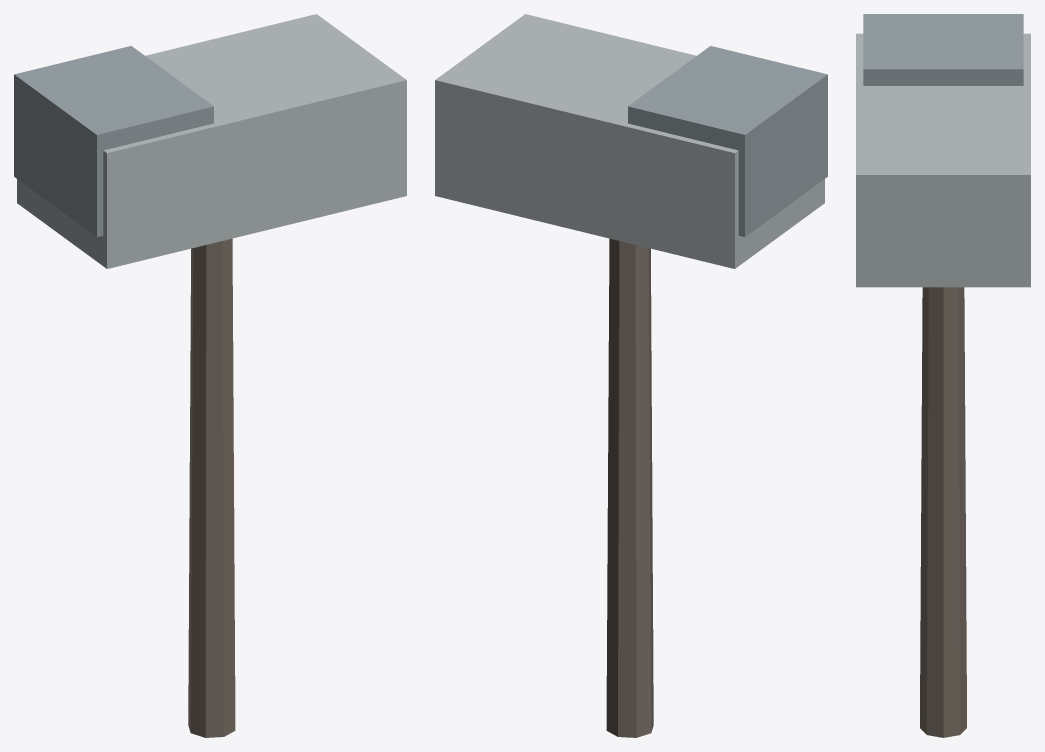
The model's file is hammer.glb.
3 views of the same model, side by side, from view 1: azimuth 30°, elevation 25°; view 2: azimuth 150°, elevation 25°; view 3: azimuth 270°, elevation 25° (orthographic). The views are drawn at different scales.
Visible parts, largest first — view 1: 工具; view 2: 工具; view 3: 工具.
Part boxes in pixels (x1,y1,x2,y2): 工具: (14, 14, 406, 737); 工具: (435, 14, 827, 737); 工具: (856, 14, 1030, 737).
Size of the model in its own units: 0.94 by 1.94 by 0.48.
